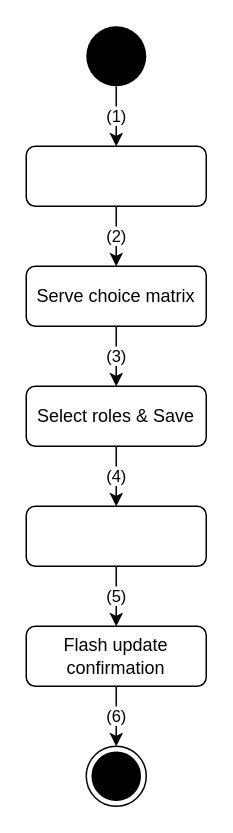
The diagram is 233 pixels wide and 833 high, and some of its shapes have lost their labels. Each missing label, with the centre of its shape:
"Evaluate & save to DB" belongs at (115,535).
"Navigate to role assignment" belongs at (115,175).
